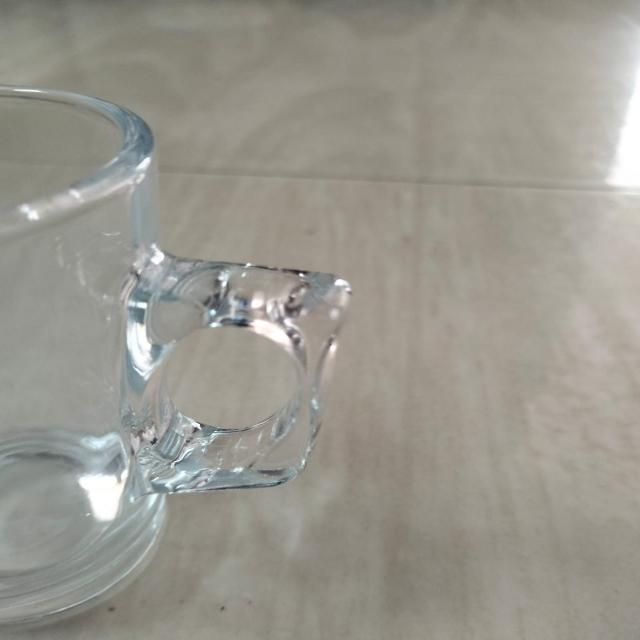glass-VX4N: (5, 75, 355, 636)
